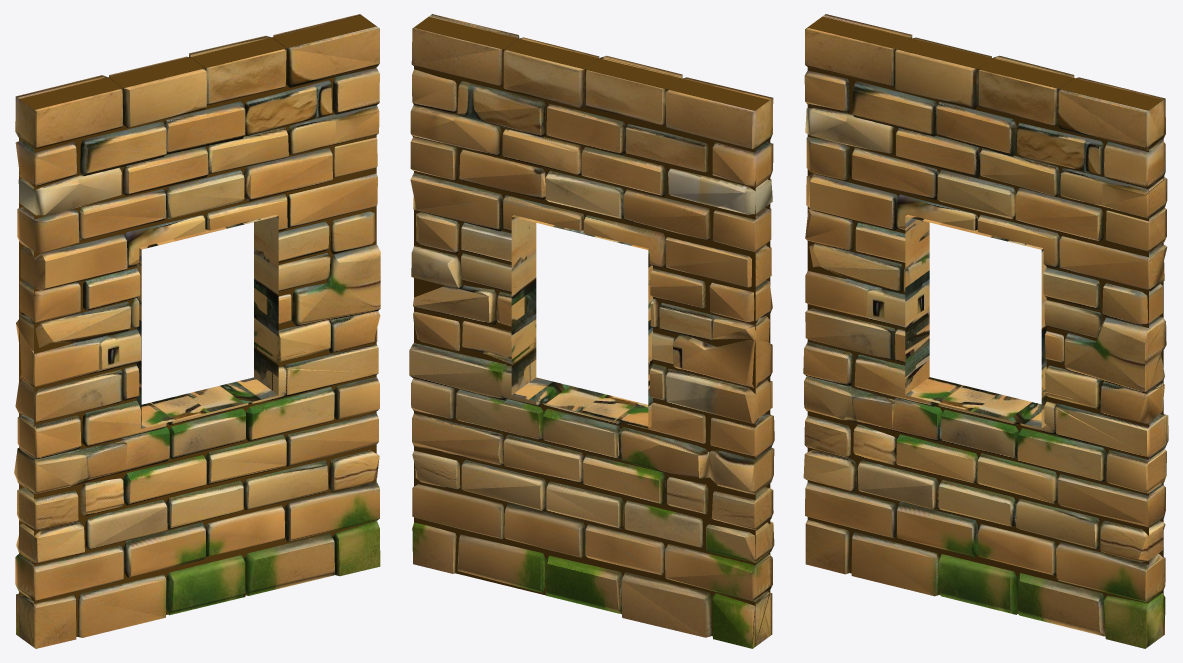
File: wall-stone-window.glb
3 renders of one model, left to right at view 1: azimuth 30°, elevation 25°; view 2: azimuth 150°, elevation 25°; view 3: azimuth 330°, elevation 25°, orthographic.
Size of the model in its own units: 2 by 3 by 0.25.
Materials: 1 (1 with a texture image).
